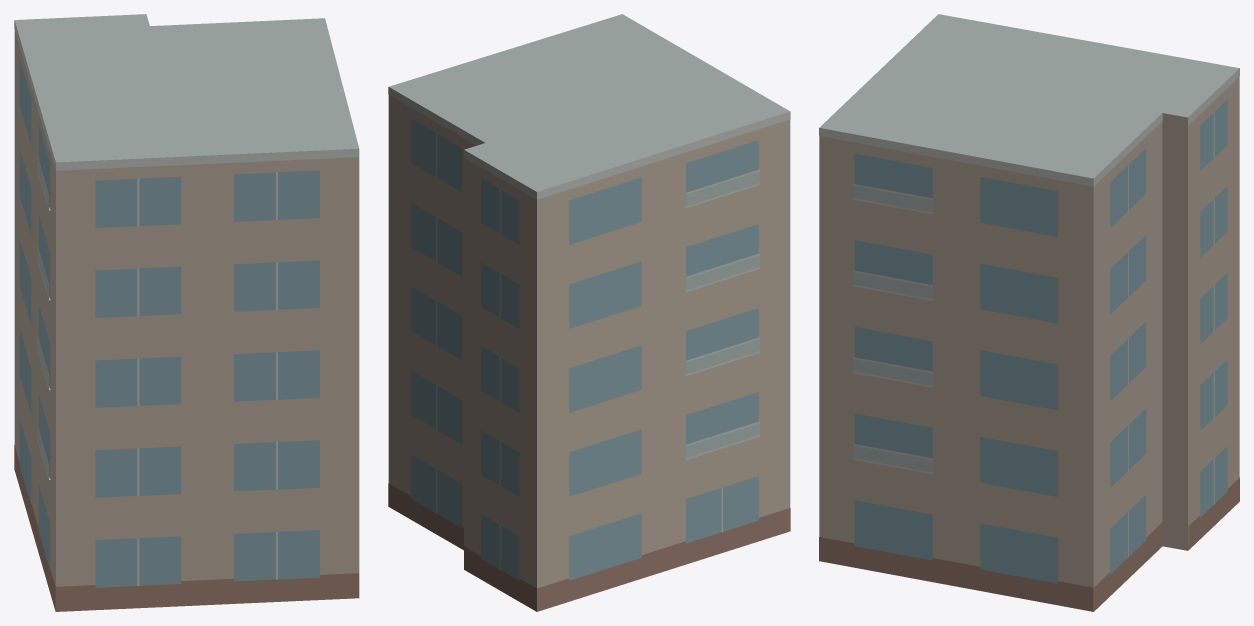
Rendered from survey-upis-33001030.glb.
3 renders of one model, left to right at view 1: azimuth 30°, elevation 25°; view 2: azimuth 150°, elevation 25°; view 3: azimuth 270°, elevation 25°, orthographic. The views are drawn at different scales.
Visible parts, largest first — view 1: survey-upis-33001030.tmp; view 2: survey-upis-33001030.tmp; view 3: survey-upis-33001030.tmp.
Part boxes in pixels (box(x1,y1,x2,y2)): survey-upis-33001030.tmp: box(14, 14, 359, 611); survey-upis-33001030.tmp: box(388, 14, 790, 611); survey-upis-33001030.tmp: box(819, 14, 1239, 611).
Bounding box in the file's own units: 10.68 × 13.1 × 11.53.
